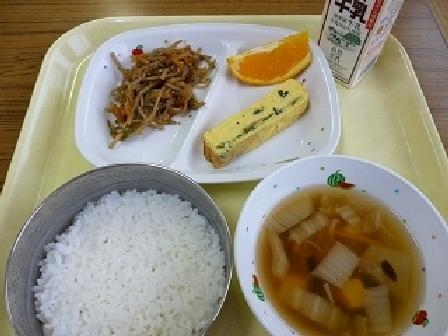Bread: (203, 79, 316, 168)
Citrus: (227, 18, 321, 90)
Milk: (314, 0, 411, 70)
Rice: (18, 168, 237, 326)
Soups: (253, 168, 426, 324)
salad with sauce: (105, 38, 210, 136)
